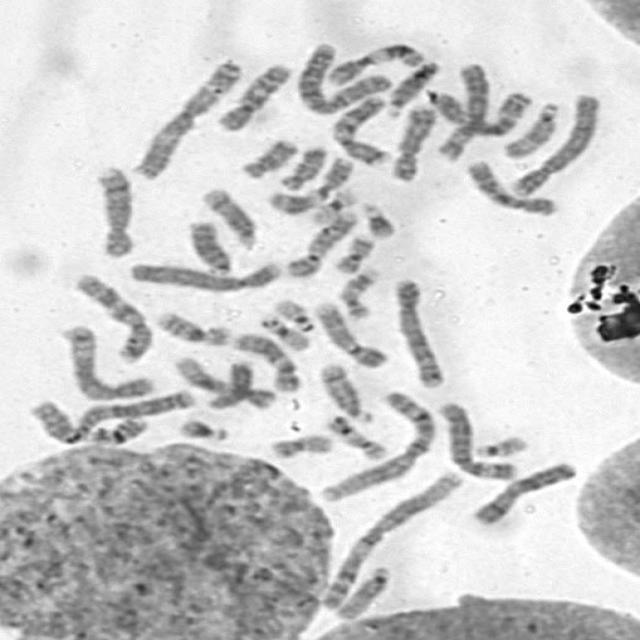A1: (319, 470, 466, 614), (317, 390, 436, 502)
A2: (28, 388, 201, 446), (298, 42, 394, 116)
A3: (129, 59, 244, 180), (426, 88, 533, 138)
B4: (510, 90, 602, 198), (126, 262, 282, 294)
B5: (62, 323, 156, 401), (390, 278, 448, 390)
C10: (465, 158, 565, 219), (215, 64, 293, 132)
C11: (262, 155, 354, 218), (327, 43, 429, 88)
C12: (174, 354, 279, 410), (231, 332, 302, 392)
C6: (435, 400, 518, 482), (434, 63, 492, 162)
C7: (70, 272, 156, 364), (330, 95, 390, 167)
C8: (90, 167, 140, 261), (391, 105, 436, 184)
C9: (312, 300, 390, 370), (286, 211, 358, 280)
D13: (384, 60, 442, 119), (185, 219, 234, 277)
D14: (314, 360, 378, 426), (201, 189, 259, 252)
D15: (502, 101, 562, 160), (334, 562, 392, 622)
E16: (151, 309, 234, 348), (82, 414, 150, 447)
E17: (324, 414, 390, 462), (336, 270, 374, 321)
E18: (279, 145, 328, 193), (240, 138, 298, 178)
F19: (308, 185, 361, 226), (258, 315, 312, 353)
F20: (266, 434, 334, 461), (334, 236, 378, 275)
G21: (357, 200, 397, 242), (176, 418, 234, 444)
G22: (273, 298, 318, 332), (474, 435, 531, 458)
X: (469, 460, 581, 528)
Y: (210, 362, 254, 409)
